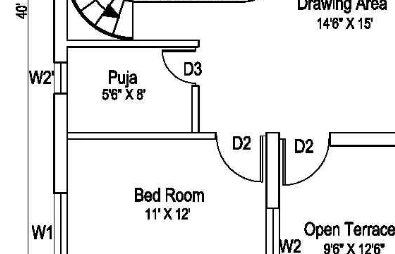door: (212, 117, 264, 192), (281, 124, 333, 195), (159, 48, 213, 89)
window: (46, 181, 74, 254), (46, 51, 75, 101)
